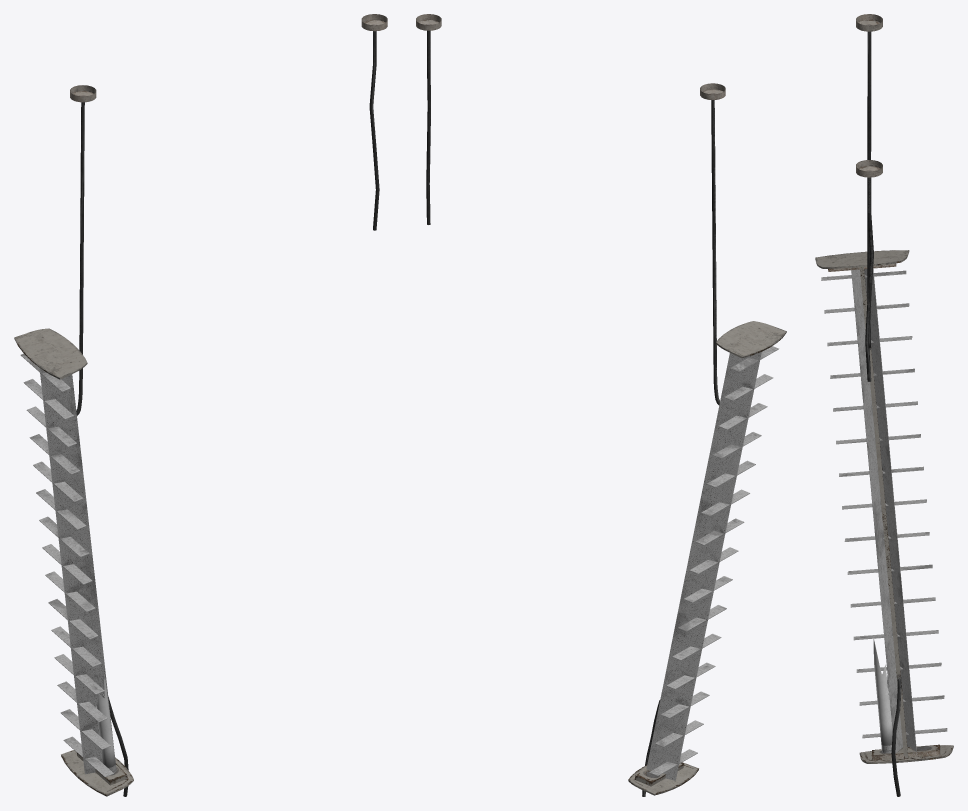
File: LampFluoHangingE.fbx
3 renders of one model, left to right at view 1: azimuth 30°, elevation 25°; view 2: azimuth 150°, elevation 25°; view 3: azimuth 270°, elevation 25°, orthographic. The views are drawn at different scales.
Parts seen in each view (by area): view 1: LampFluoHangingE_LOD0; view 2: LampFluoHangingE_LOD0; view 3: LampFluoHangingE_LOD0.
Part boxes in pixels (x1,y1,x2,y2): LampFluoHangingE_LOD0: [14, 14, 387, 796]; LampFluoHangingE_LOD0: [416, 14, 786, 796]; LampFluoHangingE_LOD0: [815, 14, 953, 796].
Size of what is drawn, in the model's own units: 124 by 242 by 40.64.
